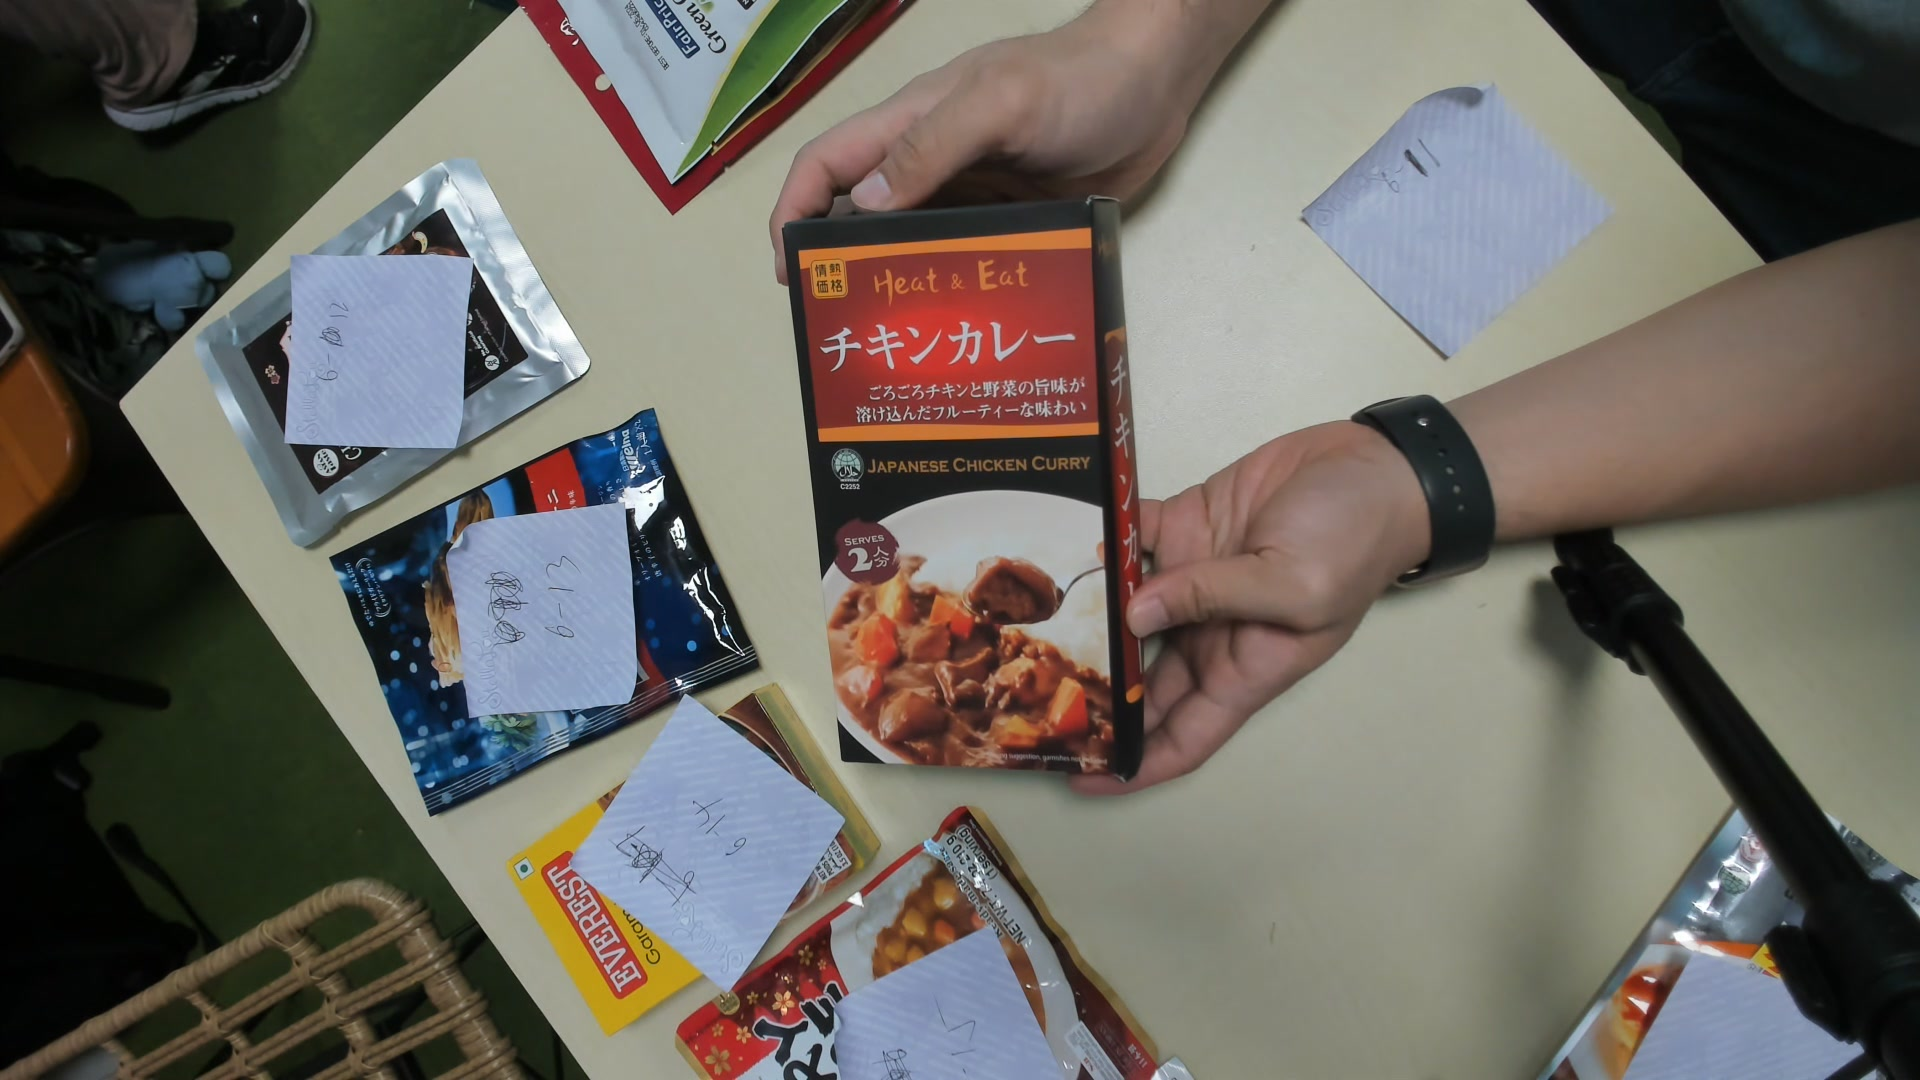CurryPastePowderSauce_200-299g_Halal_NonHealthy: (785, 202, 1149, 787)
